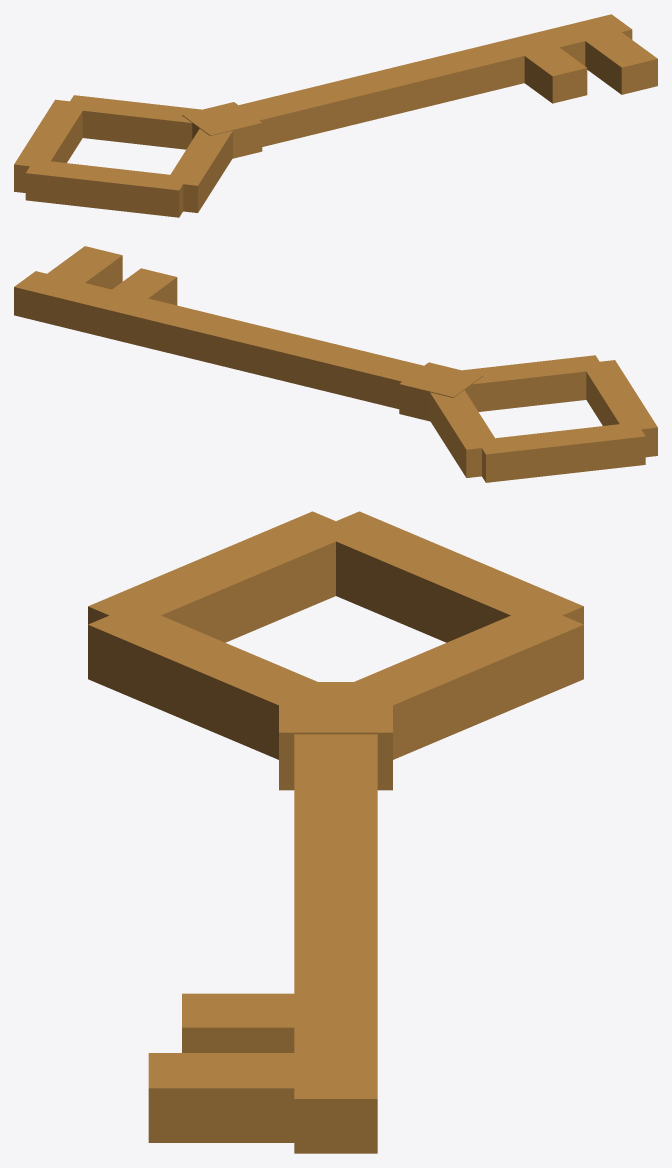
File: ancient_key.glb
3 views of the same model, one above another, from view 1: azimuth 30°, elevation 25°; view 2: azimuth 150°, elevation 25°; view 3: azimuth 270°, elevation 25° (orthographic). The views are drawn at different scales.
Visible parts, largest first — view 1: Shaft, BowLL, BowUR, Tooth2, BowUL, BowLR, Tooth1, Joint; view 2: Shaft, BowUL, BowLR, BowLL, BowUR, Joint, Tooth2, Tooth1; view 3: Shaft, BowLL, BowLR, BowUR, BowUL, Tooth2, Joint, Tooth1.
Part boxes in pixels (x1,y1,x2,y2): Shaft: (239,14,632,146); BowLL: (25,159,187,217); BowUR: (67,95,201,149); Tooth2: (580,28,657,94); BowUL: (14,99,86,192); BowLR: (166,129,232,212); Tooth1: (519,44,587,103); Joint: (182,102,262,158); Shaft: (14,271,423,409); BowUL: (477,423,645,482); BowLR: (462,355,599,411); BowLL: (581,360,657,457); BowUR: (430,390,496,477); Joint: (399,362,482,421); Tooth2: (42,246,122,289); Tooth1: (110,268,177,305); Shaft: (294,734,377,1153); BowLL: (88,511,359,642); BowLR: (88,605,317,759); BowUR: (354,605,583,759); BowUL: (313,511,583,642); Tooth2: (148,1053,315,1142); Joint: (279,682,392,790); Tooth1: (182,993,315,1052).
Size of the model in its own units: 8.31 by 0.38 by 2.97.
